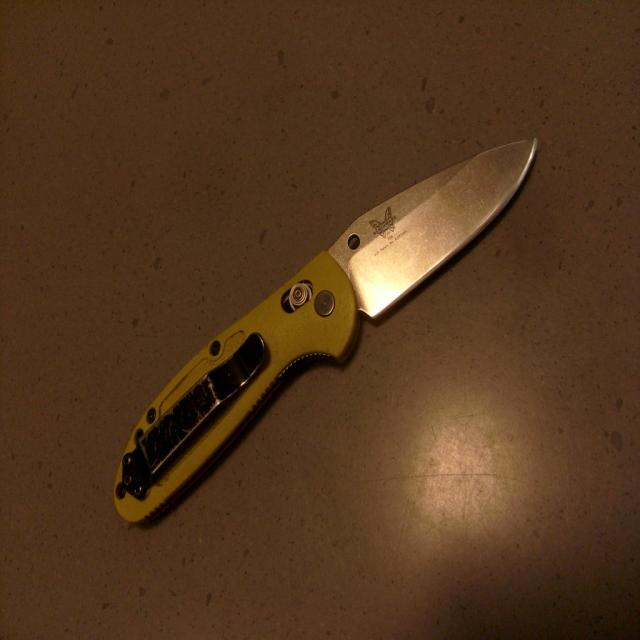knife: (110, 135, 536, 529)
